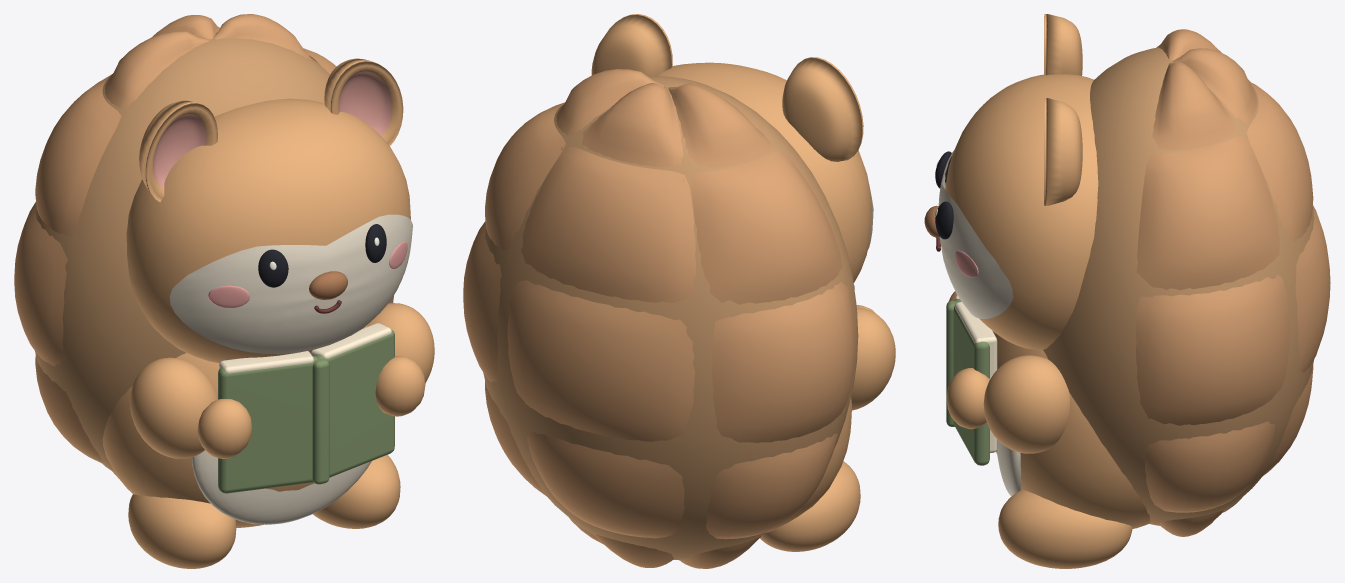
File: armadillo.glb
The picture shows the model from 3 angles, left to right: view 1: azimuth 30°, elevation 25°; view 2: azimuth 150°, elevation 25°; view 3: azimuth 270°, elevation 25°; orthographic projection. The views are drawn at different scales.
Visible parts, largest first — view 1: Head.Mesh.001, Shell.Underlay, Shell.Panels, Face.Cream.001, Book.Cover.L, Book.Cover.R, Arm.L.Mesh.001, Foot.L.Mesh.001, Body.Mesh.001, Belly.001, Ear.R.001, Ear.L.001 (+11 smaller); view 2: Shell.Panels, Shell.Underlay, Head.Mesh.001, Ear.L.001, Foot.L.Mesh.001, Ear.R.001, Arm.L.Mesh.001, Body.Mesh.001; view 3: Shell.Panels, Shell.Underlay, Head.Mesh.001, Body.Mesh.001, Foot.R.Mesh.001, Arm.R.Mesh.001, Face.Cream.001, Ear.R.001, Book.Cover.R, Ear.L.001, Paw.R.001, Book.Pages.R (+3 smaller).
Part boxes in pixels (<box>): Head.Mesh.001: <box>126,98,410,363</box>; Shell.Underlay: <box>34,31,393,473</box>; Shell.Panels: <box>14,14,336,477</box>; Face.Cream.001: <box>169,214,412,354</box>; Book.Cover.L: <box>218,355,317,493</box>; Book.Cover.R: <box>315,328,394,477</box>; Arm.L.Mesh.001: <box>130,357,217,458</box>; Foot.L.Mesh.001: <box>128,494,236,568</box>; Body.Mesh.001: <box>102,325,367,527</box>; Belly.001: <box>192,450,371,524</box>; Ear.R.001: <box>324,58,403,145</box>; Ear.L.001: <box>139,100,217,202</box>; Shell.Panels: <box>463,69,855,568</box>; Shell.Underlay: <box>483,76,858,560</box>; Head.Mesh.001: <box>657,62,871,282</box>; Ear.L.001: <box>782,57,863,161</box>; Foot.L.Mesh.001: <box>760,461,860,551</box>; Ear.R.001: <box>591,14,672,75</box>; Arm.L.Mesh.001: <box>851,307,895,410</box>; Body.Mesh.001: <box>766,397,851,532</box>; Shell.Panels: <box>1135,29,1330,536</box>; Shell.Underlay: <box>1043,47,1314,525</box>; Head.Mesh.001: <box>945,74,1098,349</box>; Body.Mesh.001: <box>993,331,1150,528</box>; Foot.R.Mesh.001: <box>998,490,1132,568</box>; Arm.R.Mesh.001: <box>983,355,1069,453</box>; Face.Cream.001: <box>938,151,1013,318</box>; Ear.R.001: <box>1044,98,1082,205</box>; Book.Cover.R: <box>953,302,989,465</box>; Ear.L.001: <box>1044,14,1082,75</box>; Paw.R.001: <box>946,368,989,429</box>; Book.Pages.R: <box>955,302,997,453</box>.
Size of the model in its own units: 1.12 by 1.42 by 1.11.
